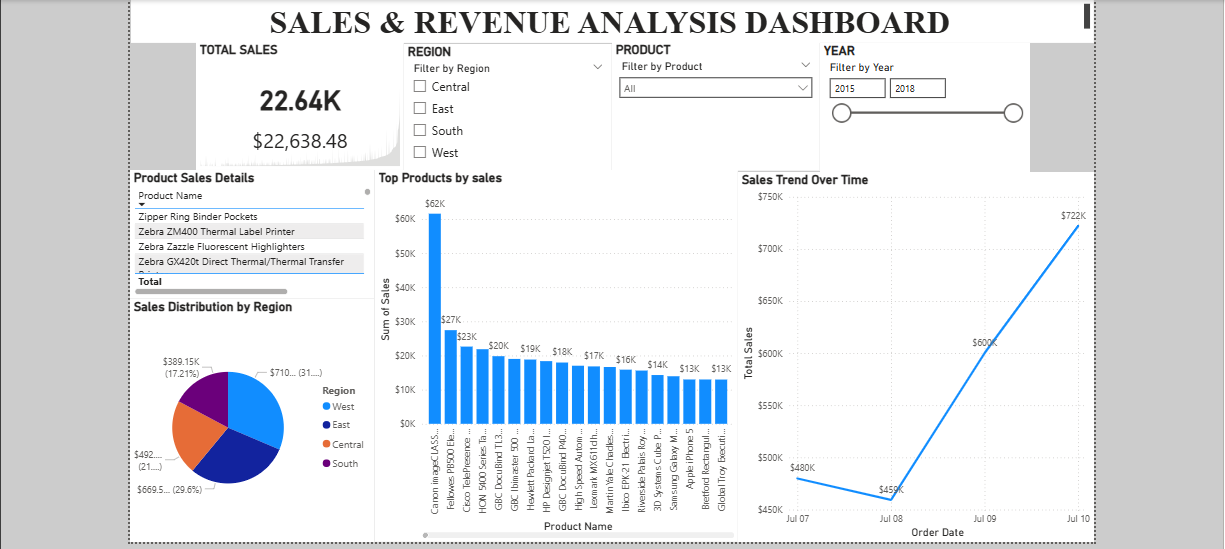

Layout of this report page (visuals, bound fields, positions):
{"tool":"powerbi","page":{"name":"Page 1","canvas":[1280,720],"ordinal":0},"visuals":[{"type":"tableEx","title":"Product Sales Details","fields":{"Values":["train.Product Name","Sum(train.Sales)"]},"box":[0,225.8,325.5,171.4],"z":0},{"type":"lineChart","title":"Sales Trend Over Time","fields":{"Y":["Sum(train.Sales)","Sum(train.Sales)"],"Category":["train.Order Date.Variation.Date Hierarchy.Year"]},"box":[807.7,228.5,472.9,491.5],"z":1000},{"type":"clusteredColumnChart","title":"Top Products by sales","fields":{"Category":["train.Product Name"],"Y":["Sum(train.Sales)"]},"box":[325.5,225.8,482.2,494.2],"z":2000},{"type":"pieChart","title":"Sales Distribution by Region","fields":{"Category":["train.Region"],"Y":["Sum(train.Sales)"]},"box":[0,397.2,325.5,322.8],"z":3000},{"type":"kpi","title":"TOTAL SALES ","fields":{"Indicator":["Sum(train.Sales)"],"TrendLine":["train.Sales"]},"box":[87.7,55.8,276.3,170],"z":4000},{"type":"slicer","title":"REGION","fields":{"Values":["train.Region"]},"box":[364,58.5,276.3,170],"z":5000},{"type":"slicer","title":"PRODUCT","fields":{"Values":["train.Product Name"]},"box":[640.3,55.8,276.3,171.4],"z":7000},{"type":"slicer","title":"YEAR","fields":{"Values":["train.Year"]},"box":[916.6,57.1,277.6,171.4],"z":8000},{"type":"textbox","box":[1.3,0,1279.3,57.1],"z":9000}]}

Visuals, with their boxes on the page's 1280x720 design canvas (x1, y1, x2, y2). These are canvas units, not pixel positions in the 1225x549 screenshot, which may show the page scaled, cropped or inside an application window:
"Product Sales Details" tableEx: [0,226,326,397]
"Sales Trend Over Time" lineChart: [808,228,1281,720]
"Top Products by sales" clusteredColumnChart: [326,226,808,720]
"Sales Distribution by Region" pieChart: [0,397,326,720]
"TOTAL SALES " kpi: [88,56,364,226]
"REGION" slicer: [364,58,640,228]
"PRODUCT" slicer: [640,56,917,227]
"YEAR" slicer: [917,57,1194,228]
textbox: [1,0,1281,57]
